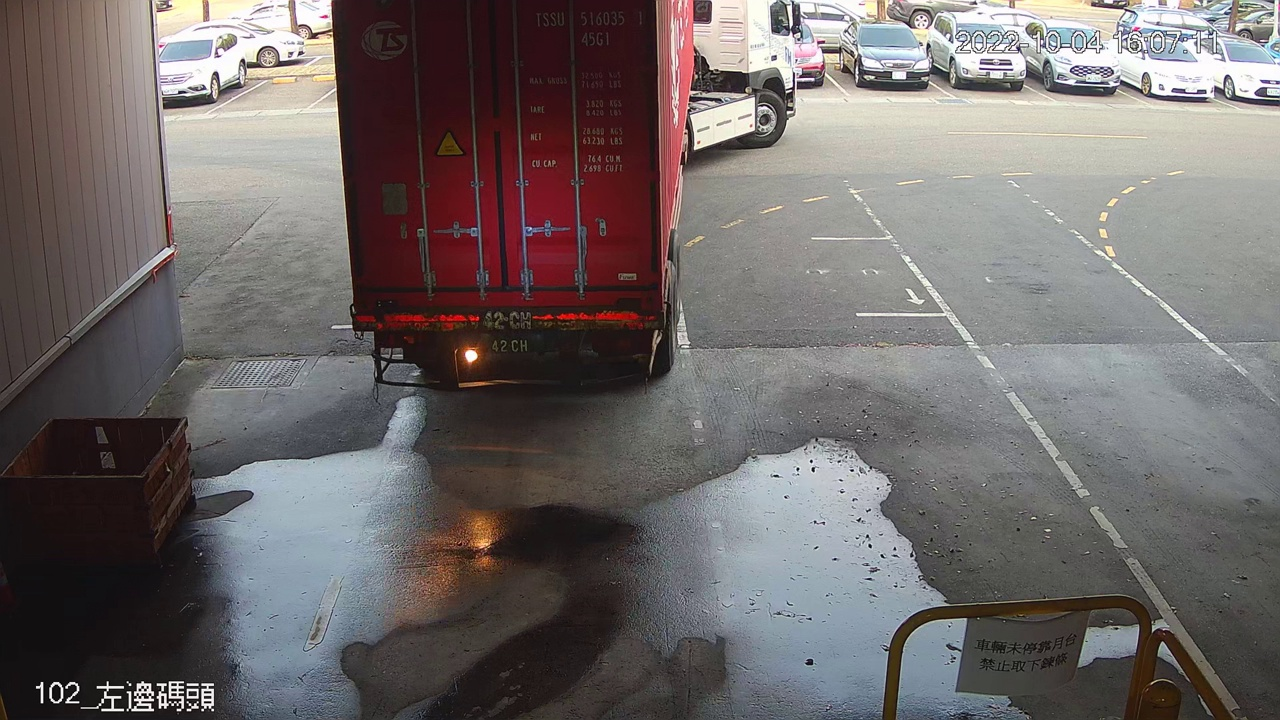container: (528, 6, 651, 53)
